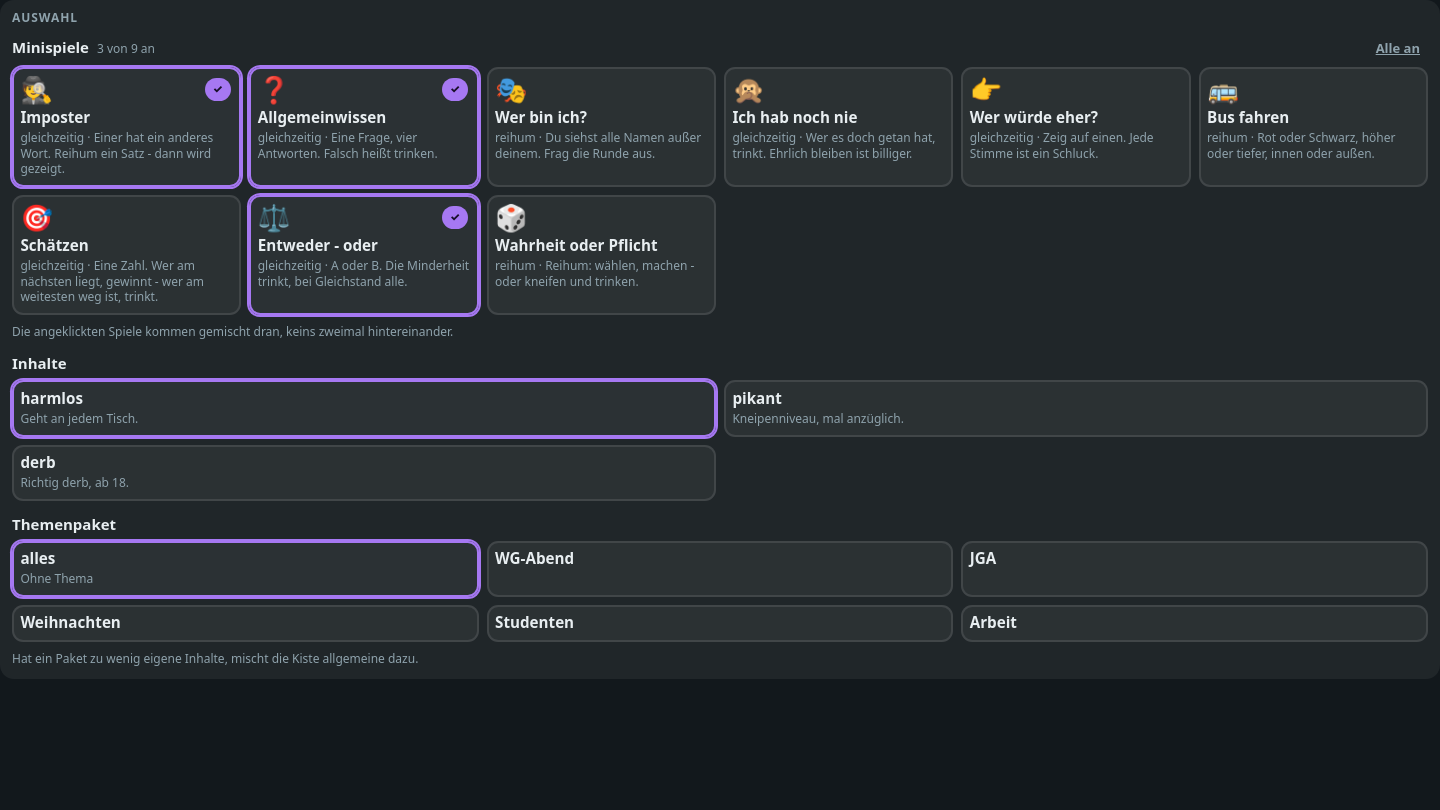
Auswahl im Menue der Partykiste › unter drei Minispiele geht es nicht — die Kachel bleibt an, ein Hinweis sagt warum
Check: the element named "Minispiele" is shown, box left=12, top=67, right=1428, bottom=315
Click the button "Allgemeinwissen".
click(364, 127)  # box left=249, top=67, right=479, bottom=187
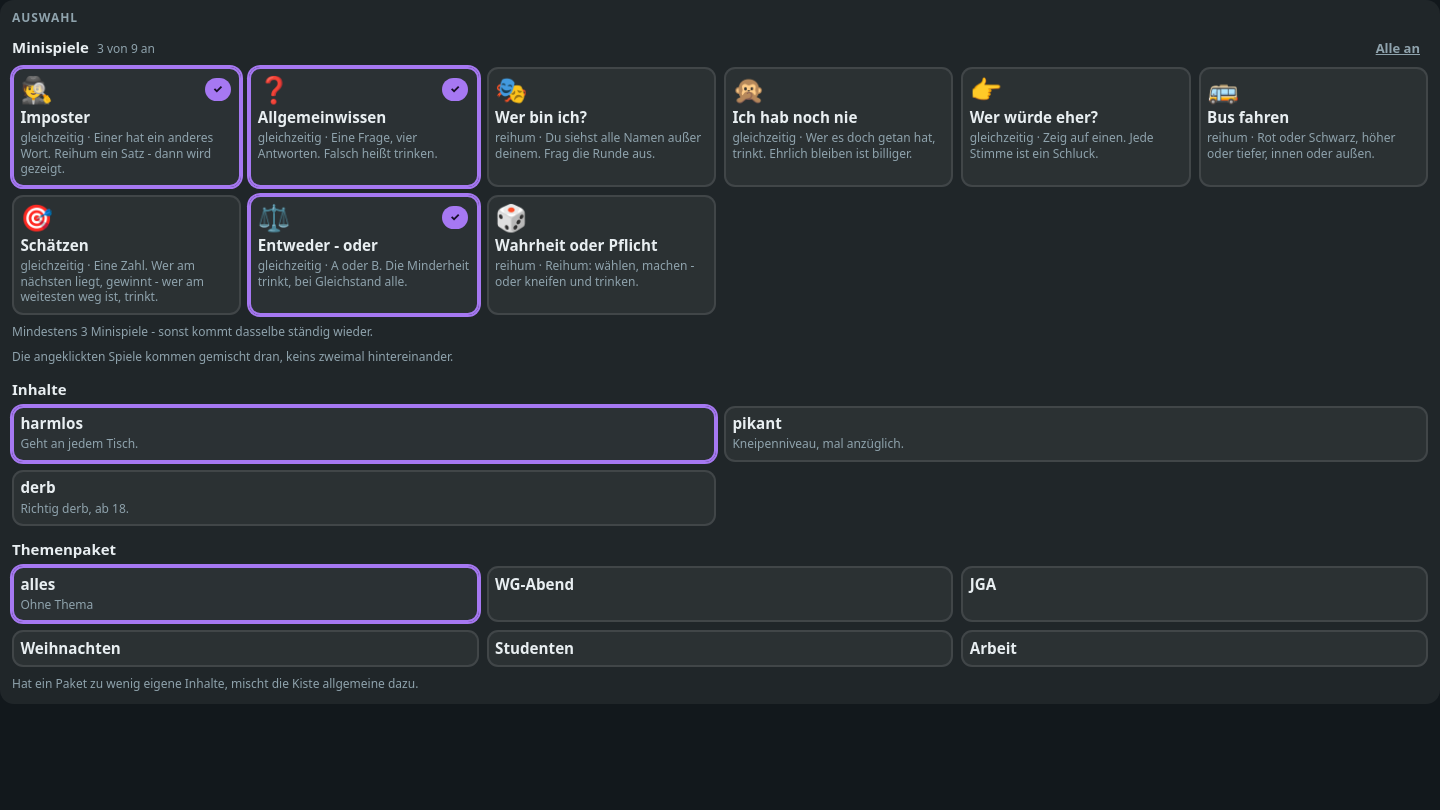
Check: the message shows "Mindestens 3", box left=12, top=323, right=373, bottom=340
